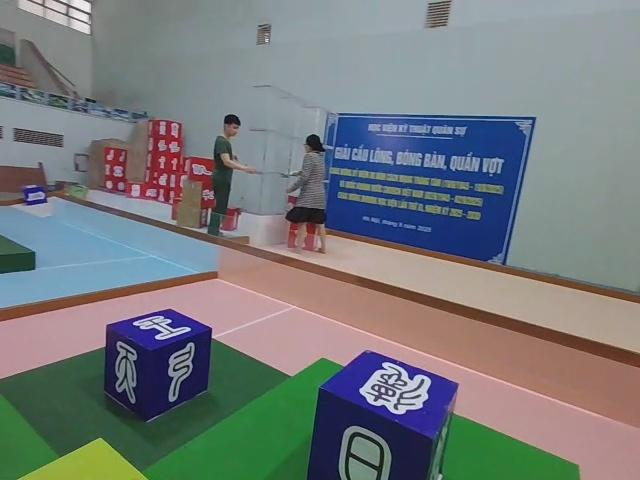R2 Fake Blue: (307, 353, 456, 480), (102, 310, 212, 426)
